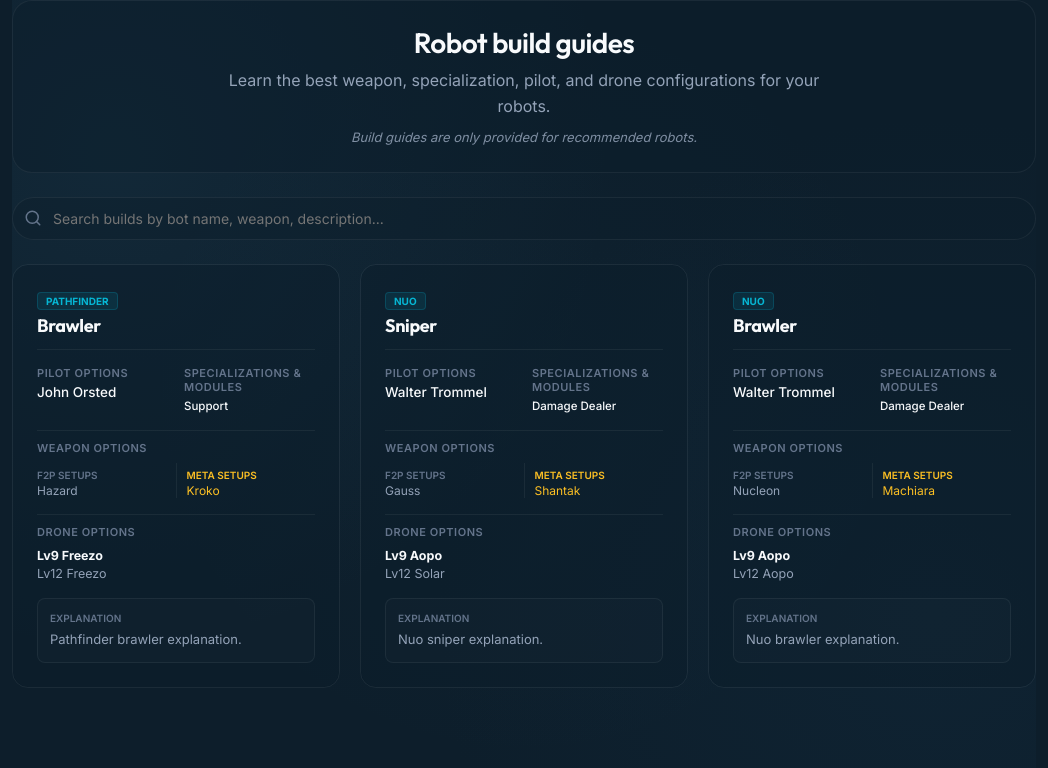
Scenario: BuildGuidesTab Search and Duplication Fix › filters builds by search query
// Search for a specific weapon
In the field with placeholder "Search builds by bot name, weapon, description...": (524, 218) [12,197,1036,240], type "Kroko"
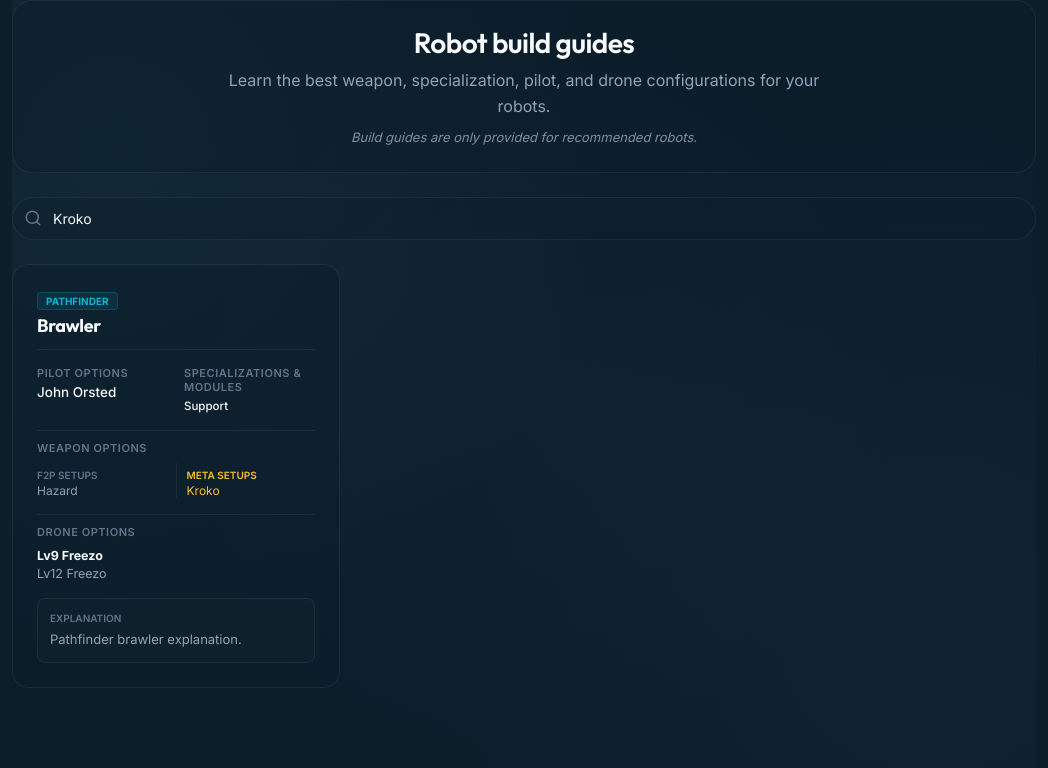
Check: the text "Pathfinder" is shown, box [37,292,118,310]
Check: the button "Nuo" is gone
